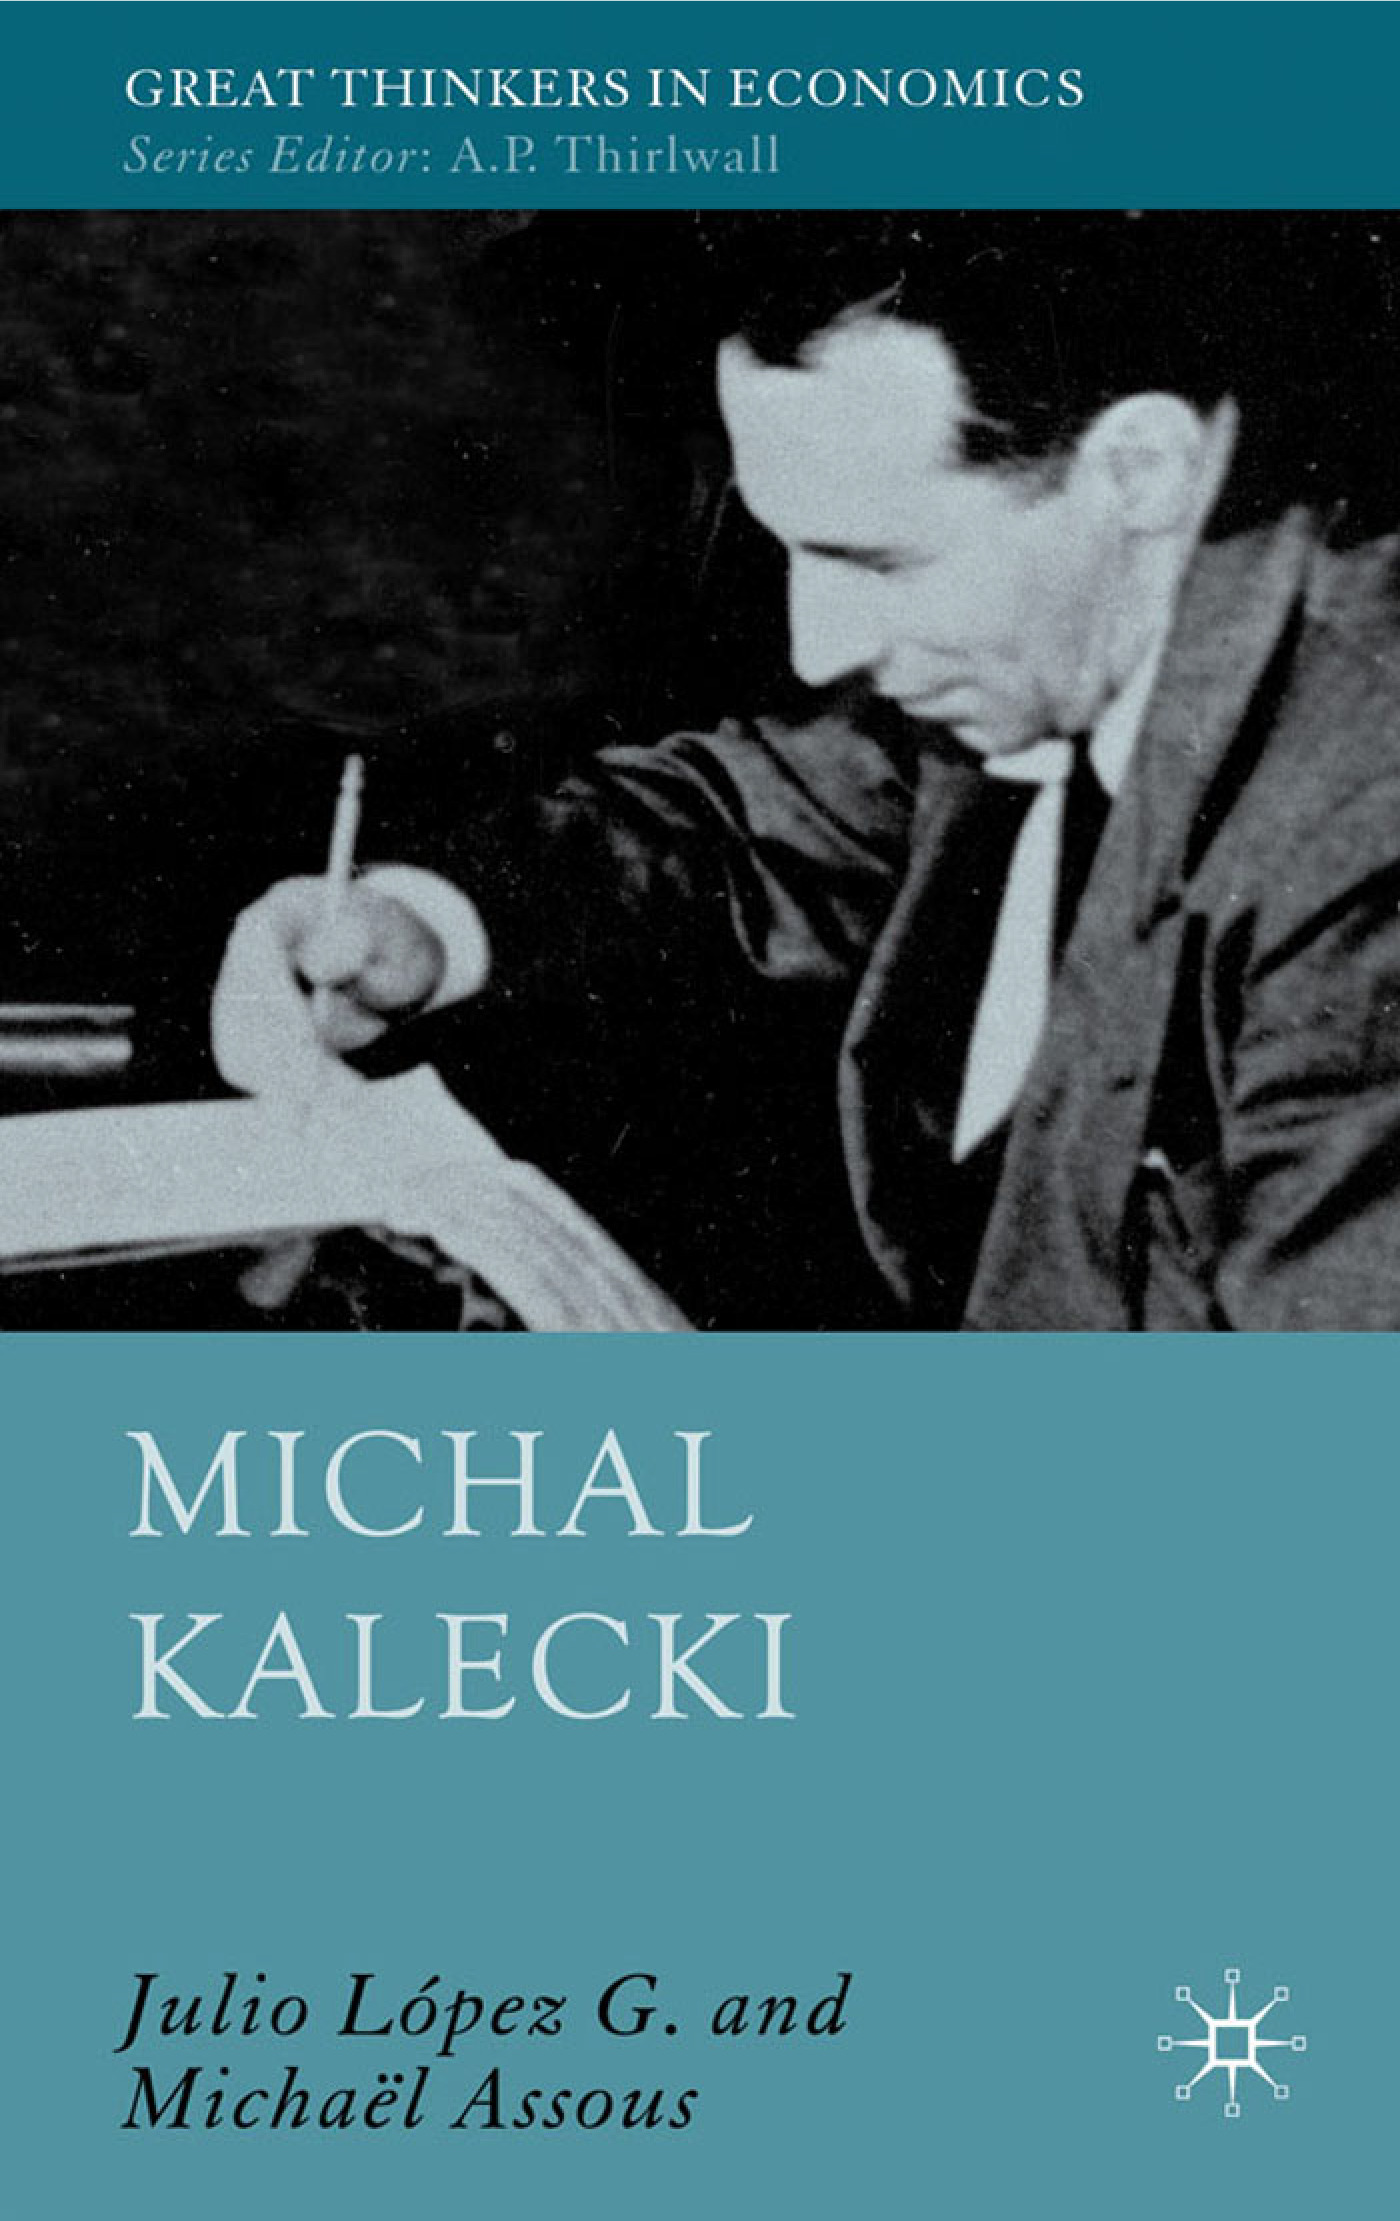figure: (10, 210, 1381, 1324), (1134, 1947, 1353, 2132)
section: (135, 1395, 844, 1765), (129, 1953, 850, 2144), (108, 44, 1090, 115), (123, 123, 782, 203)
